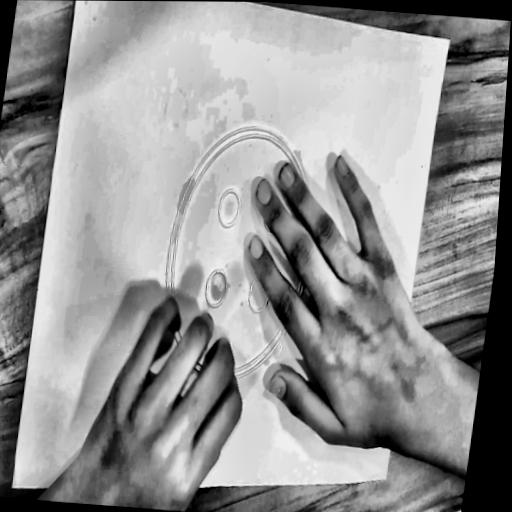bottom_left: (381, 470, 391, 485)
bottom_right: (7, 478, 18, 494)
button: (147, 108, 331, 403)
top_left: (445, 34, 453, 47)
